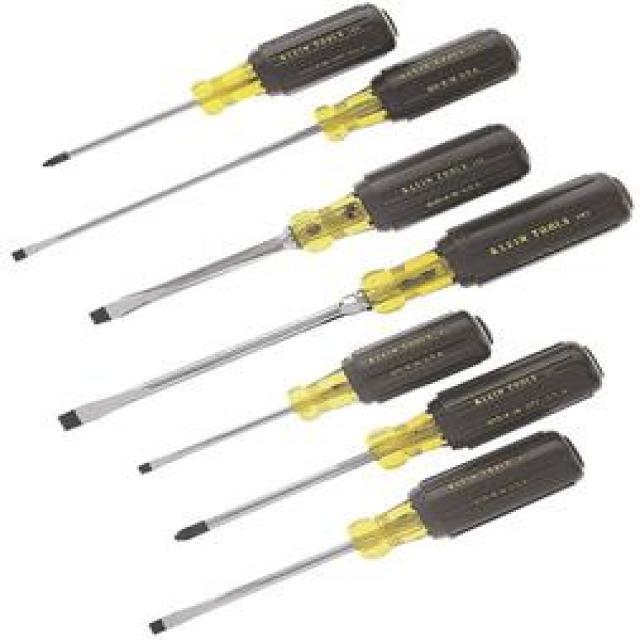screwdriver: (42, 162, 640, 432), (4, 25, 532, 264), (162, 330, 620, 558), (67, 122, 554, 336), (131, 422, 601, 640), (132, 300, 520, 497), (26, 0, 402, 175)
